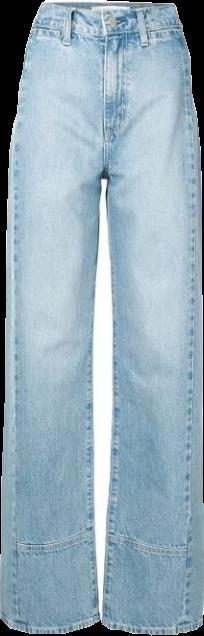Hemline: (0, 611, 102, 635), (99, 618, 203, 635)
Pantleg: (0, 1, 112, 632), (98, 1, 203, 633)
Waistline: (30, 22, 184, 44), (39, 0, 175, 15)
